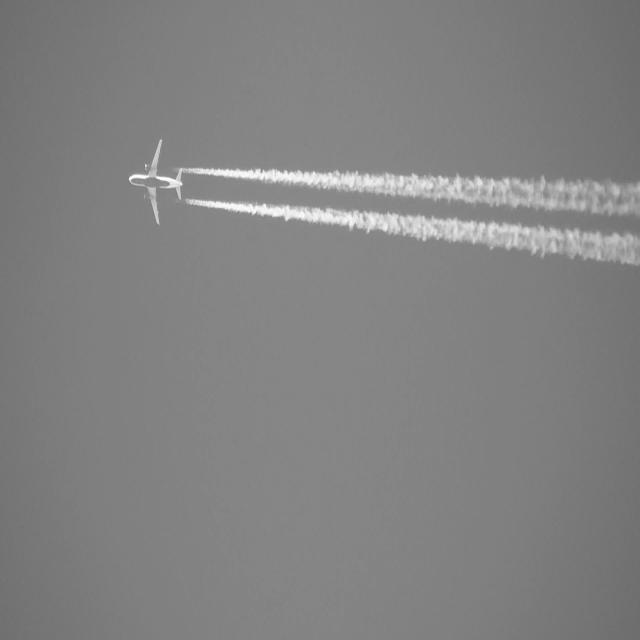aeroplane: (129, 138, 184, 228)
